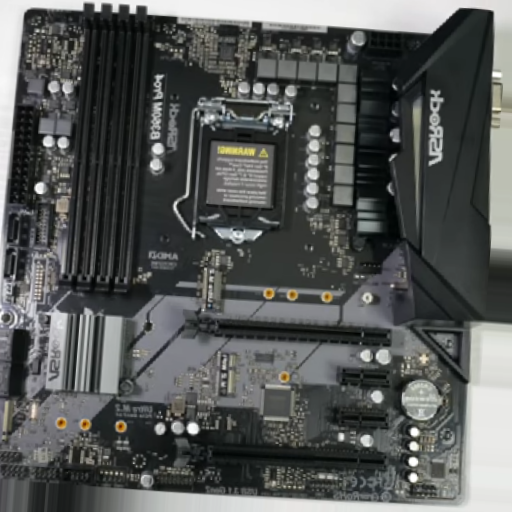CPU: (198, 98, 294, 243)
GPU: (181, 309, 393, 349), (174, 437, 387, 472)
MOTHERBOARD: (1, 12, 501, 502)
RAM: (59, 4, 152, 293)
SSD: (212, 352, 239, 397), (198, 268, 225, 310)
